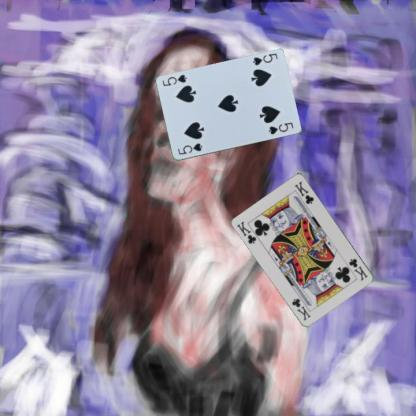5s: (249, 51, 278, 67), (175, 140, 203, 156)
Kc: (235, 218, 258, 245), (347, 256, 369, 282)
